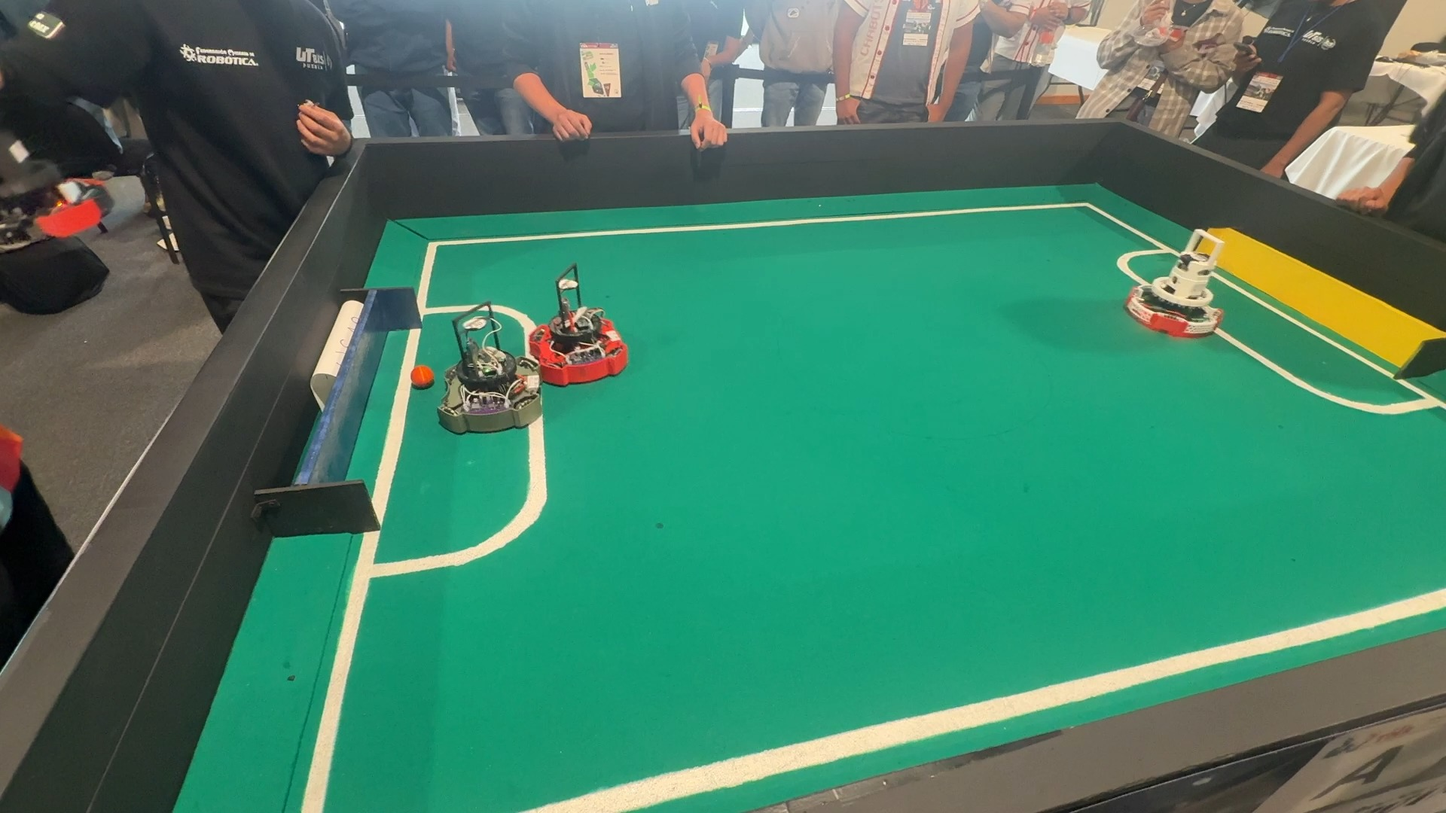Robot: (1103, 222, 1250, 349), (426, 306, 544, 442), (523, 263, 628, 396)
pelota: (409, 354, 436, 395)
